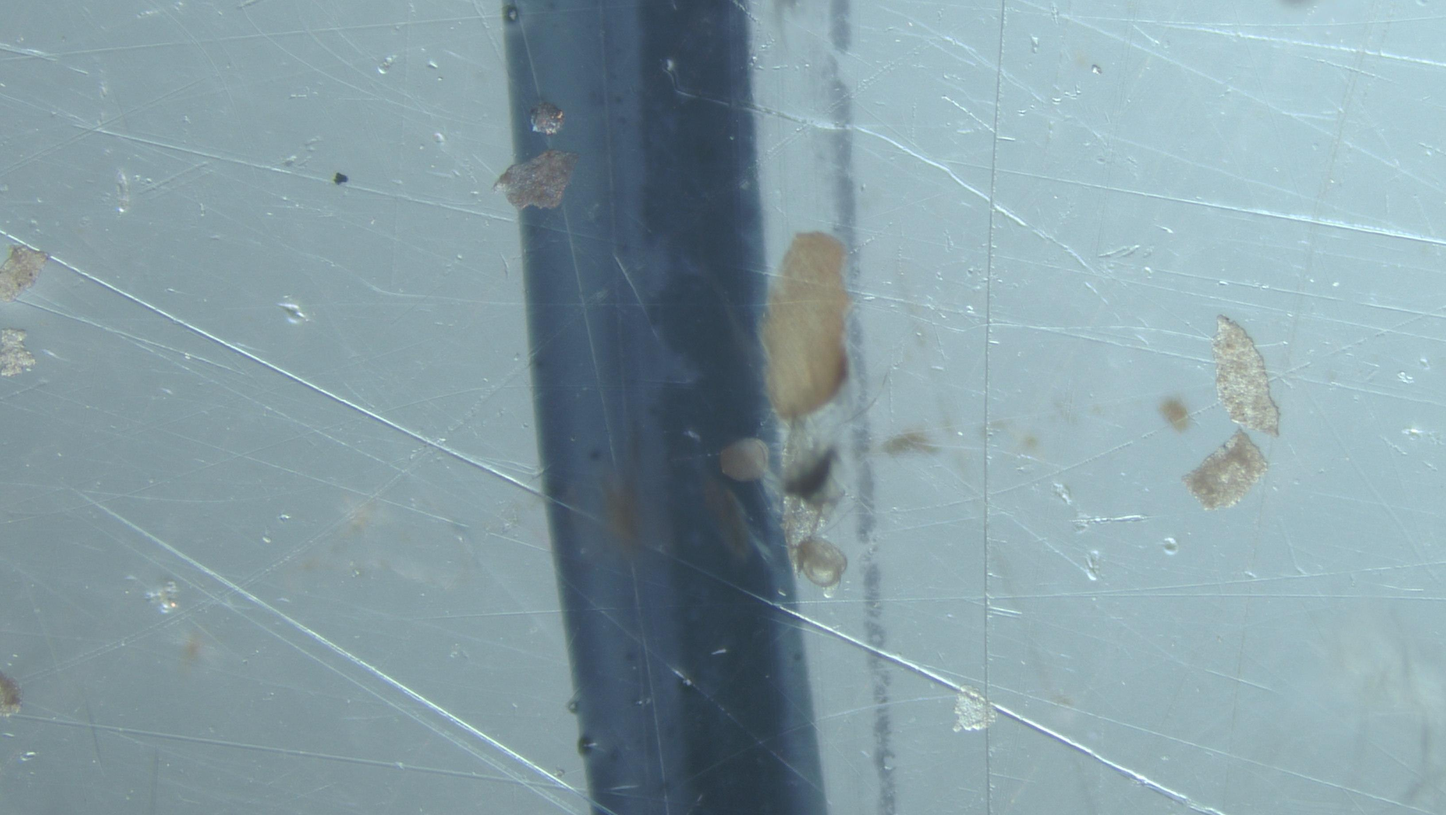live: (794, 537, 847, 589)
